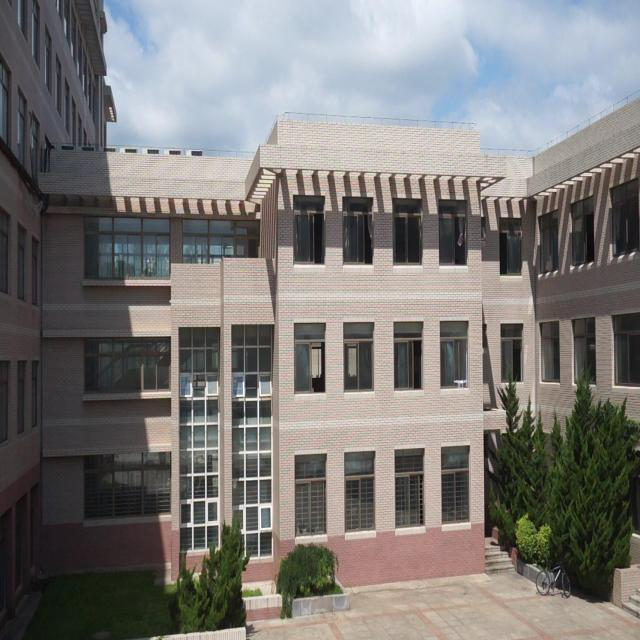drone: (453, 375, 469, 394)
